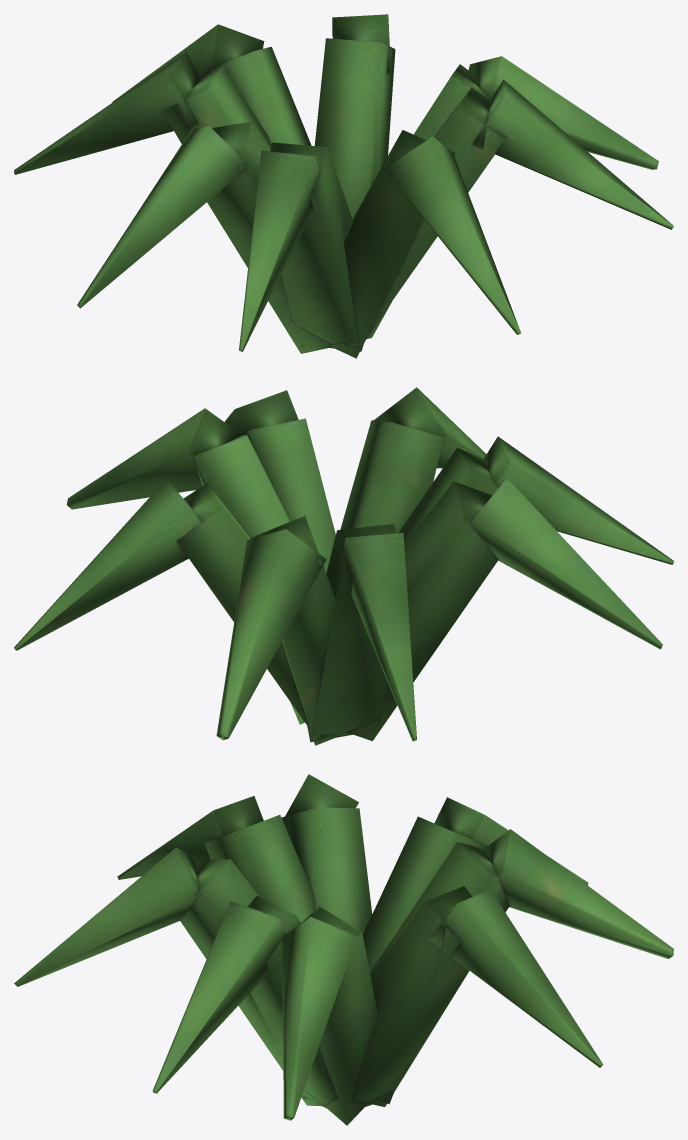
File: fern.glb
3 views of the same model, one above another, from view 1: azimuth 30°, elevation 25°; view 2: azimuth 150°, elevation 25°; view 3: azimuth 270°, elevation 25° (orthographic). The views are drawn at different scales.
Visible parts, largest first — view 1: fern; view 2: fern; view 3: fern.
Boxes of the visible parts, bbox=[...] form: fern: bbox=[14, 14, 673, 358]; fern: bbox=[14, 387, 673, 745]; fern: bbox=[14, 774, 673, 1125].
Size of the model in its own units: 1.99 by 0.8895 by 2.
1 material, 1 textured.
